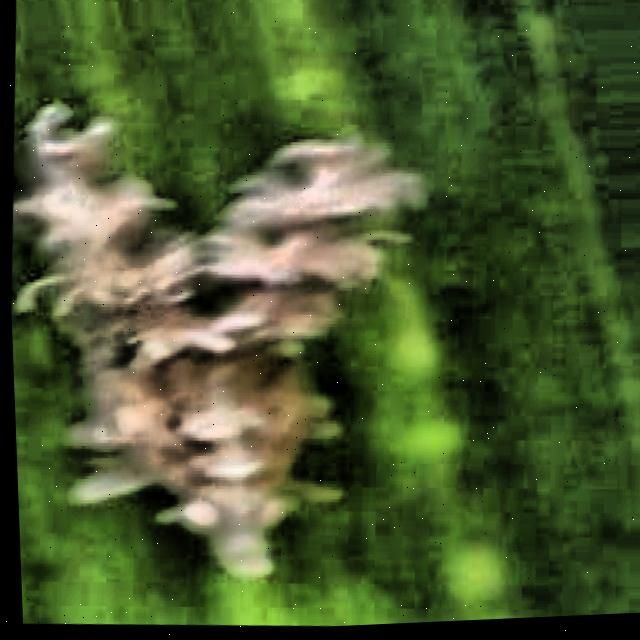Pyrilla-perpusilla: (3, 74, 449, 615)
